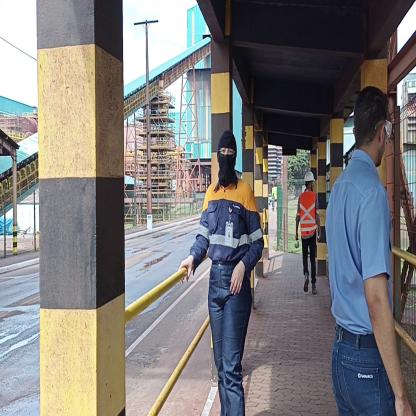Balaclava: (216, 129, 235, 186)
Capacete: (304, 168, 315, 182)
Operacional: (192, 179, 264, 262)
colete: (298, 192, 317, 240)
